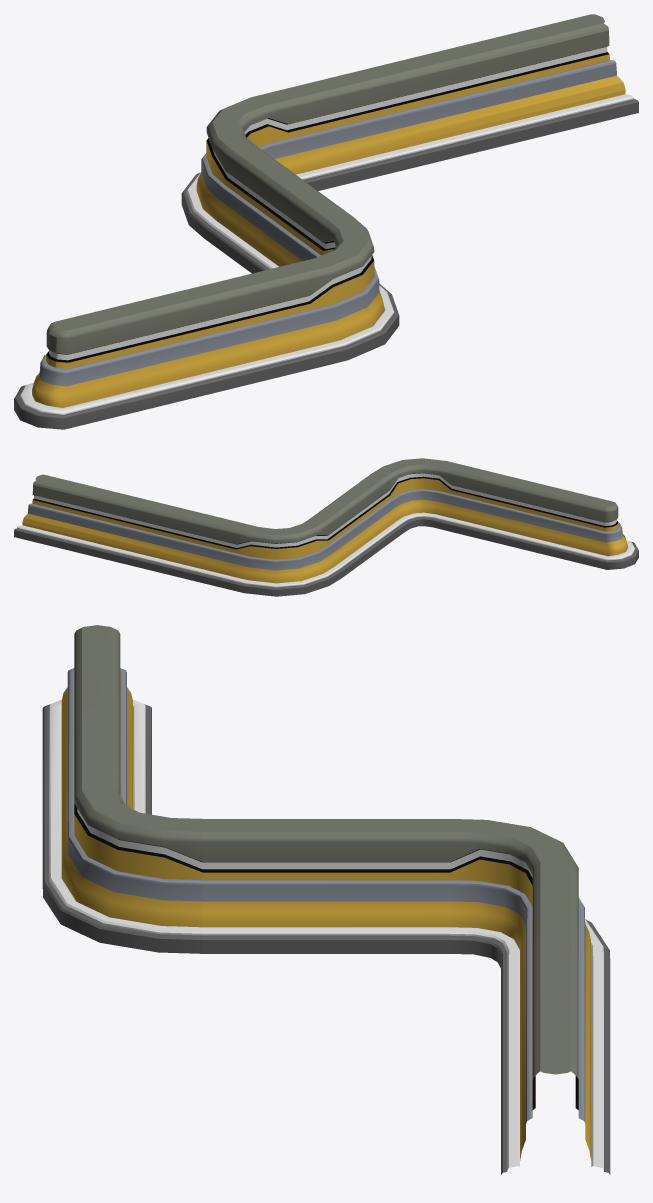
Rendered from Level7_Small_walls.fbx.
3 views of the same model, one above another, from view 1: azimuth 30°, elevation 25°; view 2: azimuth 150°, elevation 25°; view 3: azimuth 270°, elevation 25° (orthographic). The views are drawn at different scales.
Parts seen in each view (by area): view 1: Small_wall_L8; view 2: Small_wall_L8; view 3: Small_wall_L8.
Part boxes in pixels (x1,y1,x2,y2): Small_wall_L8: [14, 14, 638, 429]; Small_wall_L8: [14, 458, 638, 596]; Small_wall_L8: [42, 625, 610, 1174].
Size of the model in its own units: 358 by 37.08 by 179.
